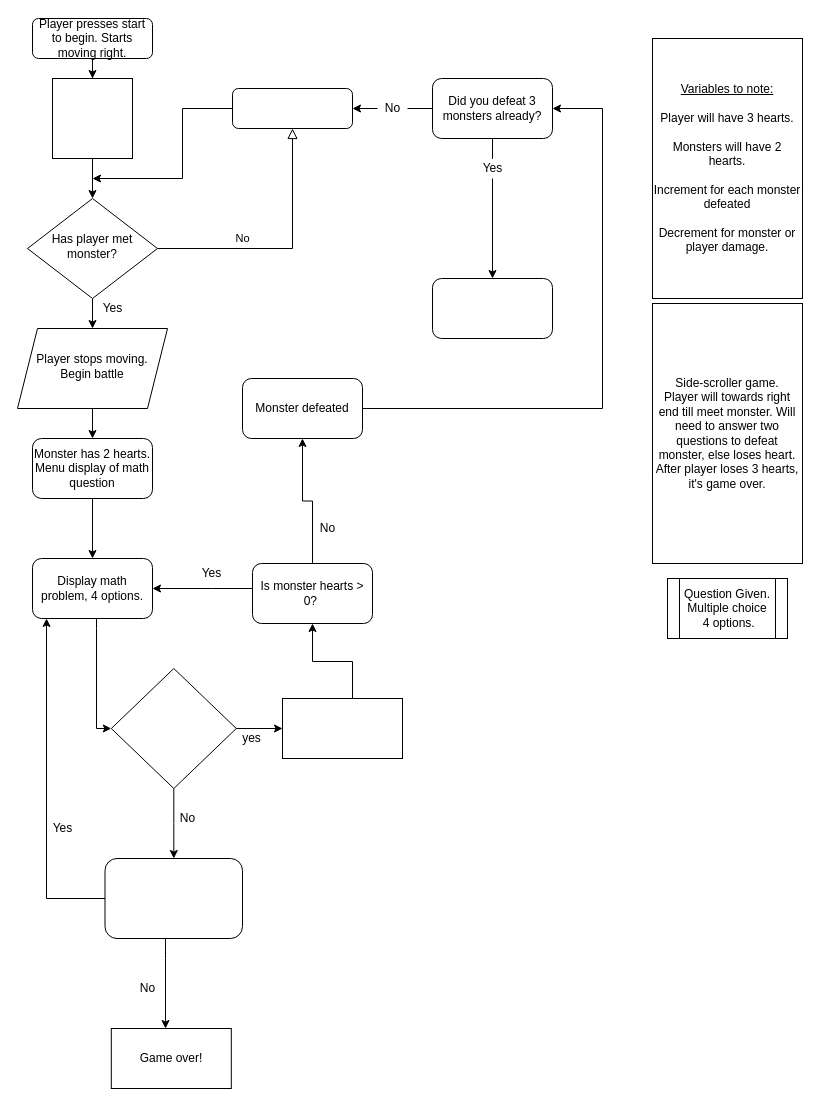
Image size: 820x1106. Some labels were removed from this diagram. Each missing label, with the centre of its shape:
Did player answer correctly?: the point at 173,728
Keep moving right.: the point at 292,108
Monster attacked Monster Hearts--: the point at 342,728
Player enters name. Initiate with 3 hearts (lives): the point at 92,118
PlayerHearts-- Is player hearts > 0?: the point at 173,898
You saved the kingdom!: the point at 492,308
